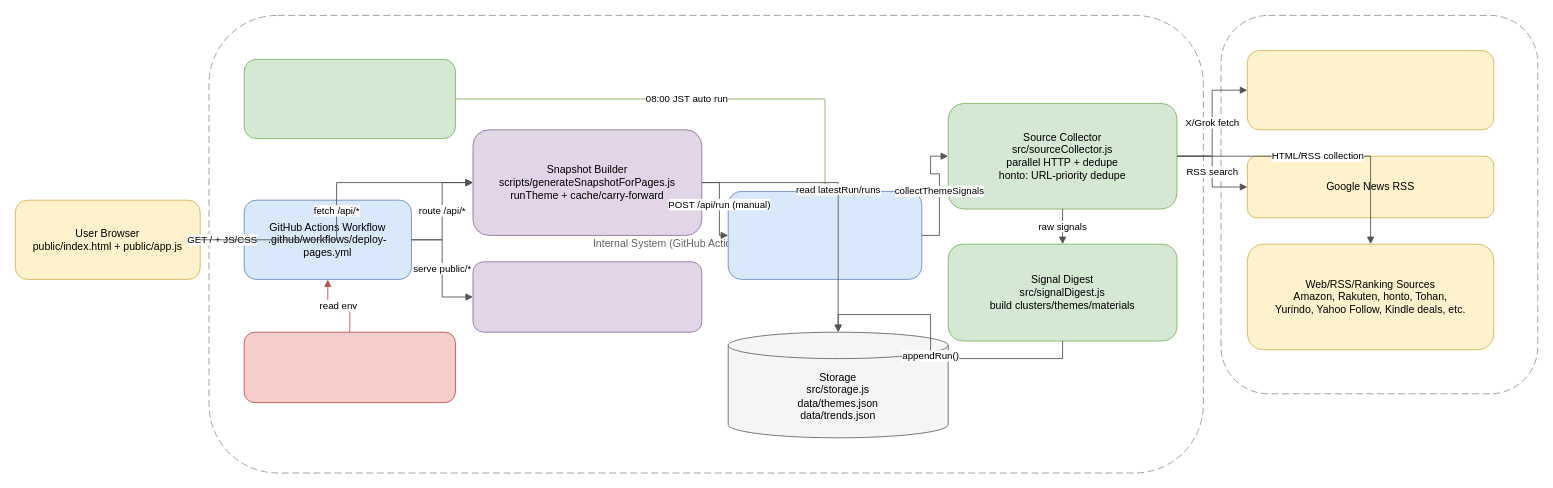
Image size: 1553x488. Some labels were removed from this diagram. Here are the shapes that lost their labels. From the top down, the centre of each, then its label:
At pixel 349 99: "Scheduled Trigger GitHub Actions cron 08:00 JST / 16:00 JST".
At pixel 1370 90: "xAI Responses API (X/Grok x_search)".
At pixel 824 235: "Trend Execution src/trendService.js runTheme()".
At pixel 587 296: "Pages Artifact public/* (snapshot.json removed before deploy)".
At pixel 349 367: "Runtime Config GitHub Secrets / Variables (no local .env)".
